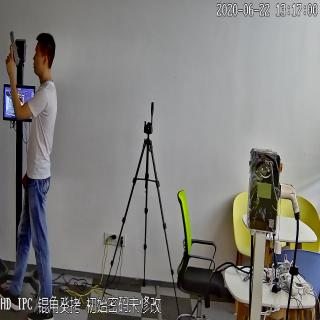gun: (3, 30, 22, 68)
